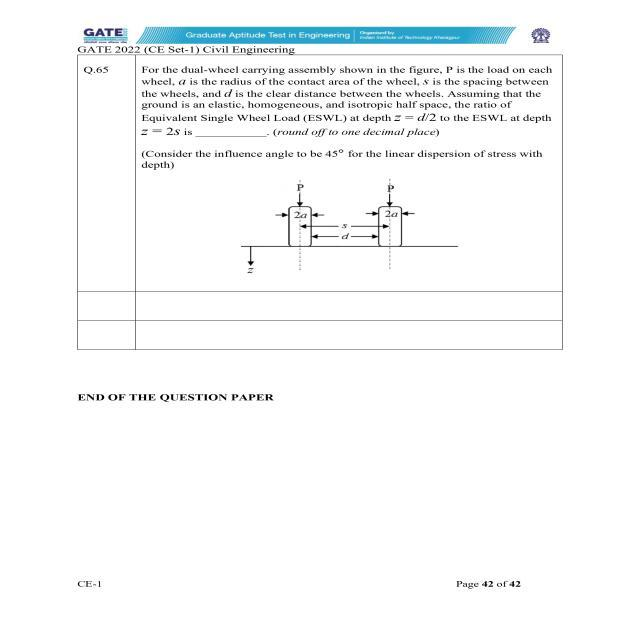Question_Answer_Block: (77, 57, 565, 291)
Question_Block: (73, 56, 561, 288)
Question_Paper_Area: (76, 41, 564, 349)
